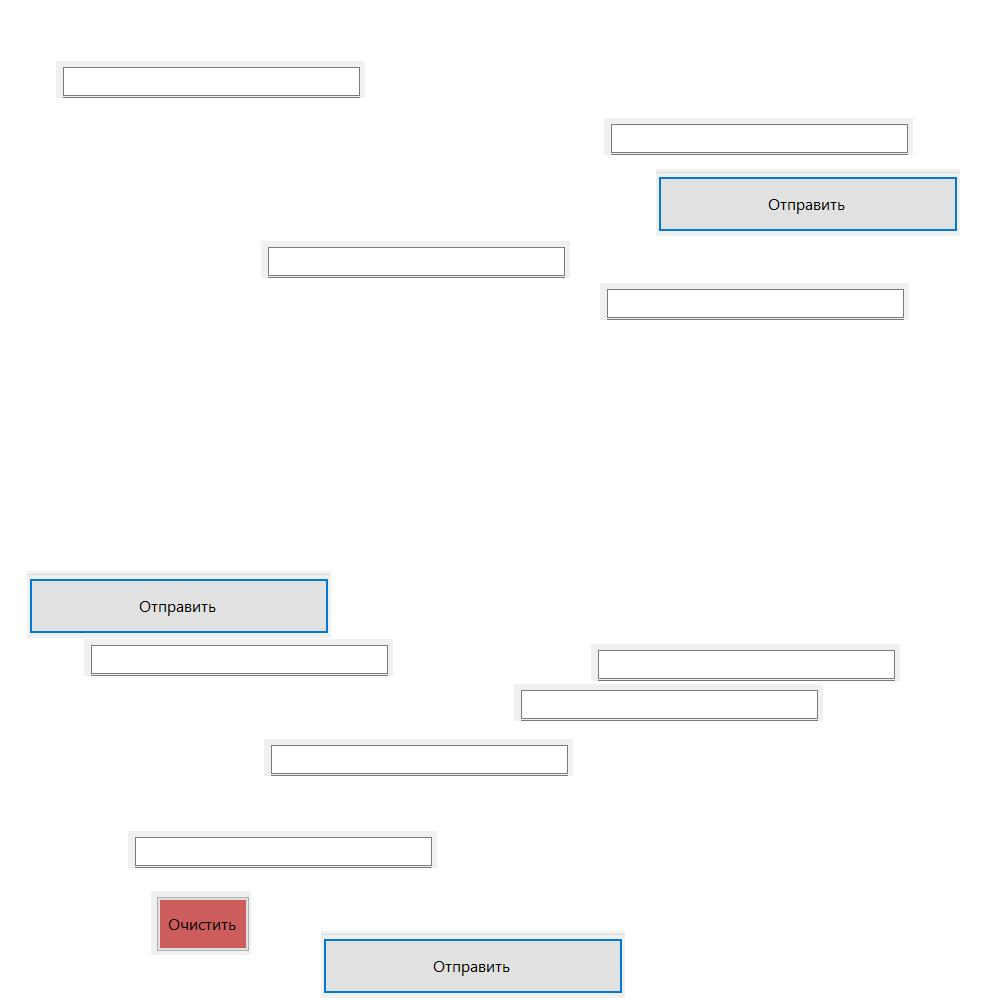Button: (27, 571, 331, 638), (656, 169, 960, 236), (321, 931, 625, 998), (151, 891, 251, 955)
EditText-: (128, 831, 437, 868), (600, 283, 909, 320), (264, 739, 573, 776), (604, 118, 913, 155), (84, 639, 393, 676), (514, 684, 823, 721), (591, 644, 900, 681), (261, 241, 570, 278), (56, 61, 365, 98)
